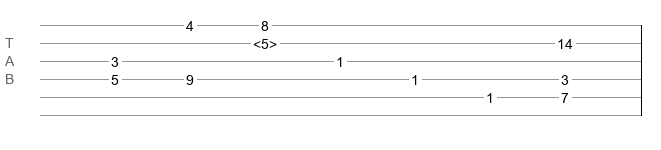1: (336, 54, 344, 64), (411, 72, 419, 82), (486, 90, 494, 100)
14: (557, 36, 573, 46)
3: (111, 54, 119, 64), (561, 72, 569, 82)
4: (186, 18, 194, 28)
5: (111, 72, 119, 82)
7: (561, 90, 569, 100)
8: (261, 18, 269, 28)
9: (186, 72, 194, 82)
harmonic: (253, 36, 277, 46)
